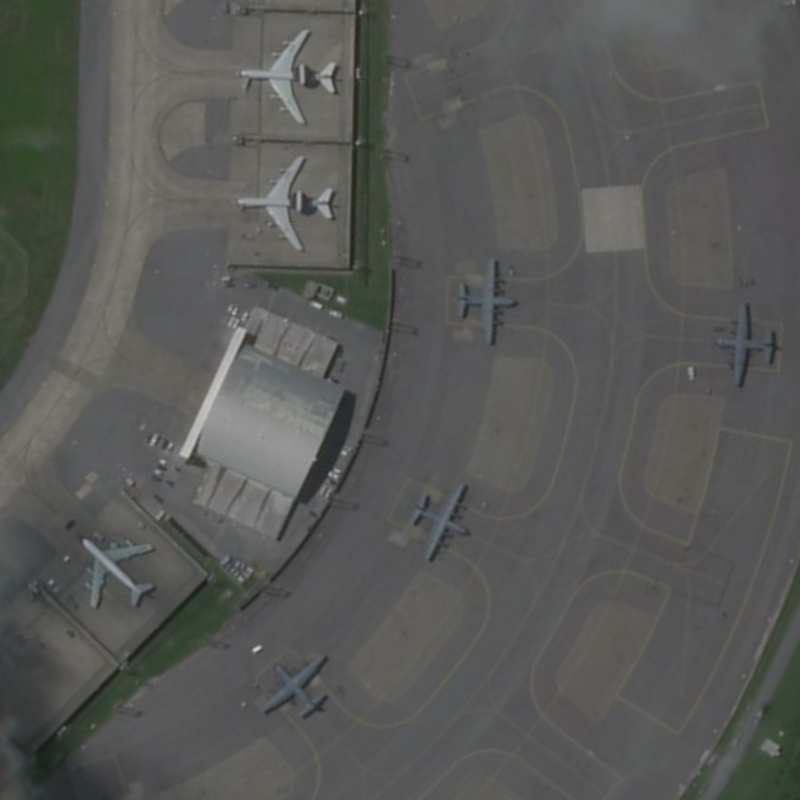A11: (73, 526, 162, 616)
A2: (708, 294, 783, 396), (449, 252, 520, 351), (404, 478, 477, 566), (253, 648, 335, 724)
A7: (232, 148, 340, 257), (233, 25, 346, 129)
